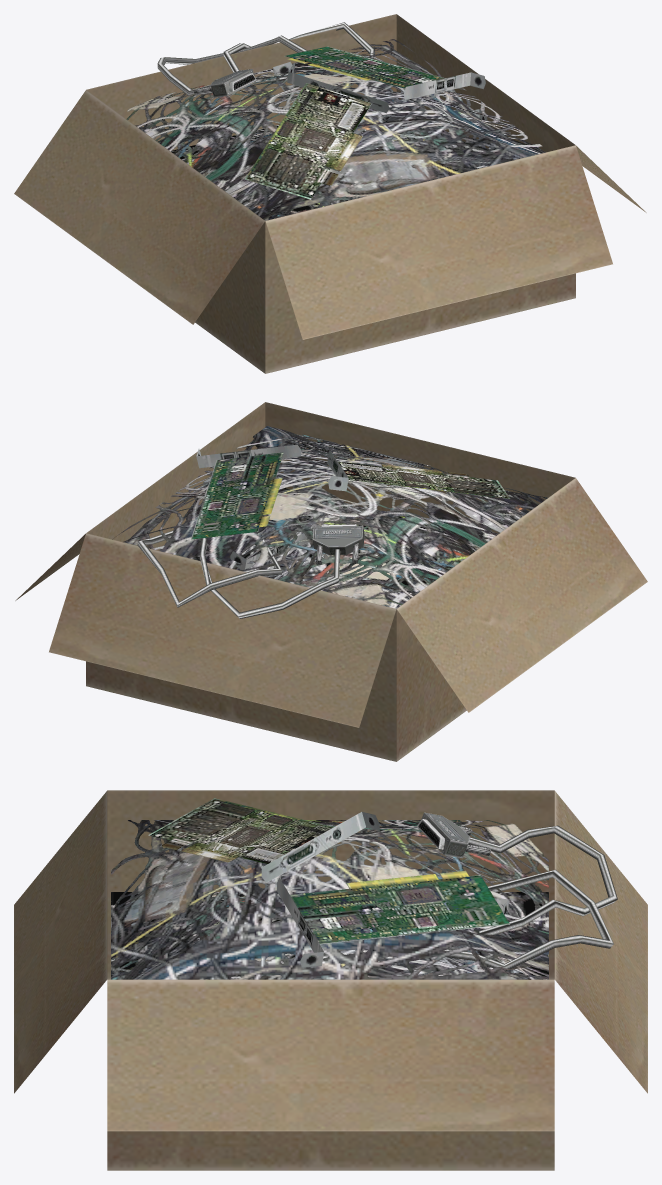
Rendered from box_with_parts.fbx.
3 renders of one model, top to bottom at view 1: azimuth 30°, elevation 25°; view 2: azimuth 150°, elevation 25°; view 3: azimuth 270°, elevation 25°, orthographic. The views are drawn at different scales.
Visible parts, largest first — view 1: mesh_0, mesh_2, mesh_8, mesh_7, mesh_3, mesh_1, mesh_4; view 2: mesh_0, mesh_2, mesh_7, mesh_1, mesh_8, mesh_3, mesh_4, mesh_5; view 3: mesh_0, mesh_2, mesh_7, mesh_8, mesh_3, mesh_1, mesh_4.
Part boxes in pixels (left/top/right/bottom): mesh_0: left=14, top=14, right=646, bottom=373; mesh_2: left=126, top=39, right=545, bottom=220; mesh_8: left=245, top=62, right=389, bottom=199; mesh_7: left=284, top=46, right=485, bottom=99; mesh_3: left=157, top=35, right=307, bottom=97; mesh_1: left=171, top=98, right=478, bottom=220; mesh_4: left=223, top=22, right=374, bottom=82; mesh_0: left=15, top=402, right=647, bottom=761; mesh_2: left=112, top=426, right=547, bottom=605; mesh_7: left=191, top=444, right=301, bottom=539; mesh_1: left=232, top=488, right=490, bottom=608; mesh_8: left=327, top=450, right=510, bottom=498; mesh_3: left=200, top=524, right=364, bottom=618; mesh_4: left=138, top=530, right=281, bottom=607; mesh_5: left=230, top=524, right=322, bottom=569; mesh_0: left=14, top=790, right=647, bottom=1170; mesh_2: left=111, top=820, right=548, bottom=979; mesh_7: left=277, top=870, right=509, bottom=967; mesh_8: left=148, top=798, right=379, bottom=882; mesh_3: left=417, top=812, right=617, bottom=934; mesh_1: left=111, top=892, right=548, bottom=979; mesh_4: left=443, top=869, right=613, bottom=971.
Size of the model in its own units: 79.52 by 33.44 by 76.93.
4 materials, 4 textured.
